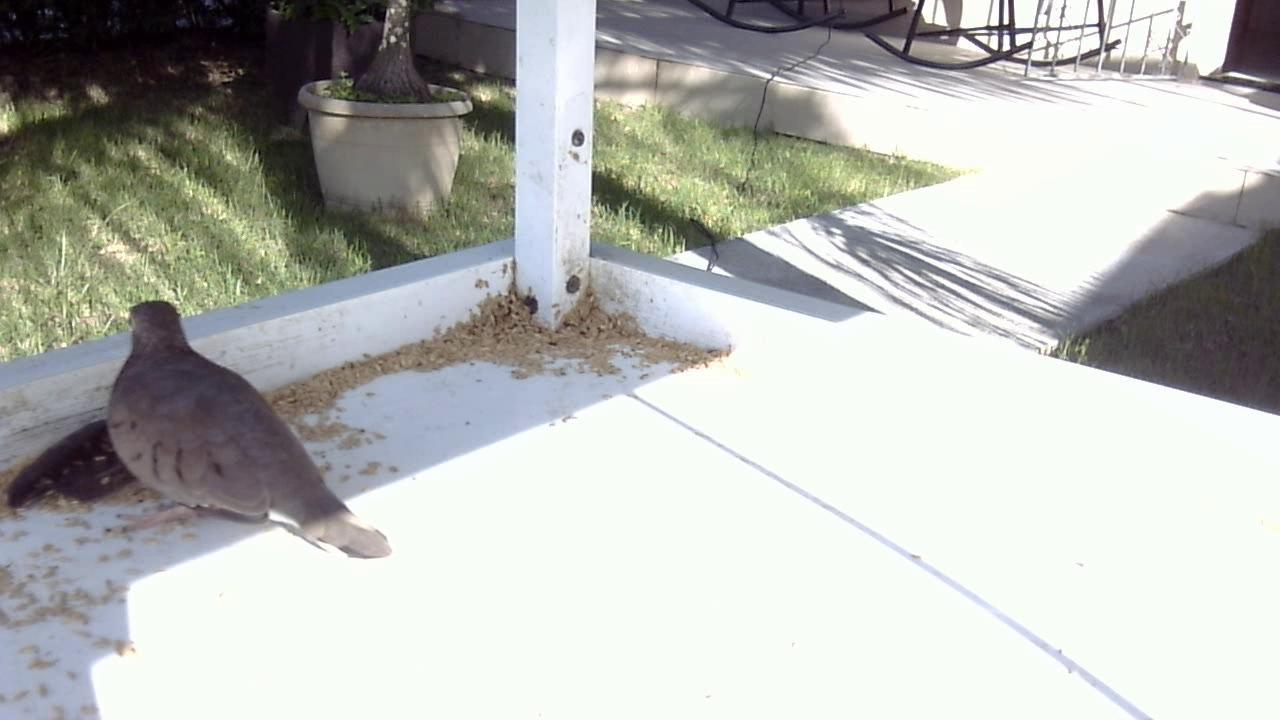rolinha: (93, 283, 395, 571)
